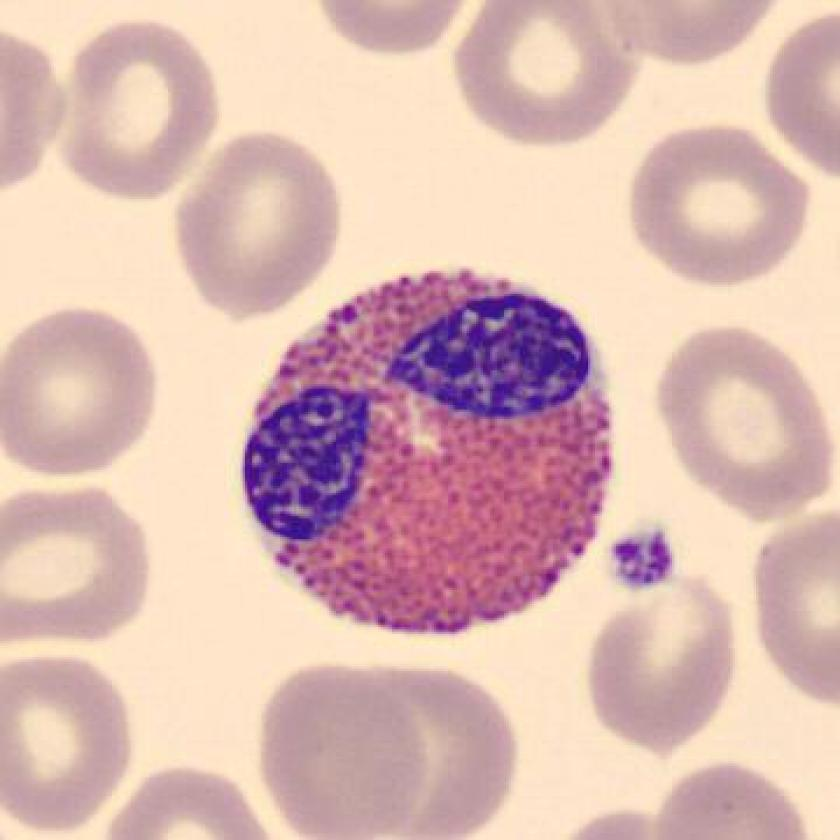eosinophil: (225, 253, 622, 649)
